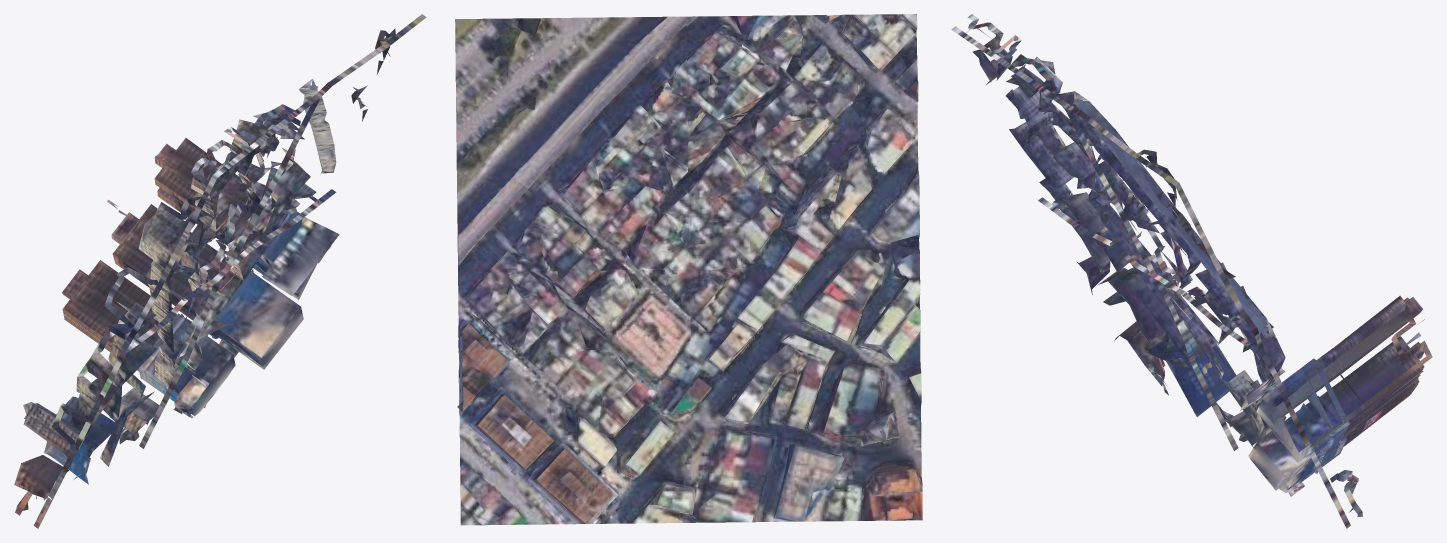
The picture shows the model from 3 angles, left to right: view 1: azimuth 30°, elevation 25°; view 2: azimuth 150°, elevation 25°; view 3: azimuth 270°, elevation 25°; orthographic projection. The views are drawn at different scales.
Size of the model in its own units: 314 by 287 by 310.
2 materials, 2 textured.
